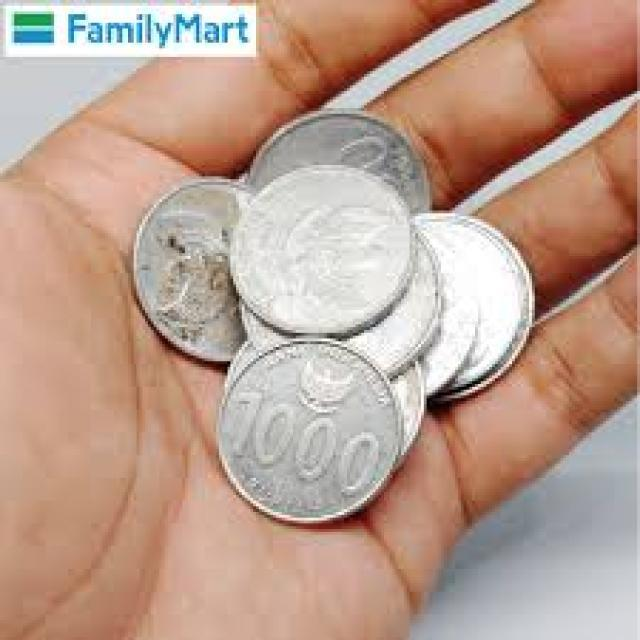coin_1000_e2010: (222, 340, 403, 530)
